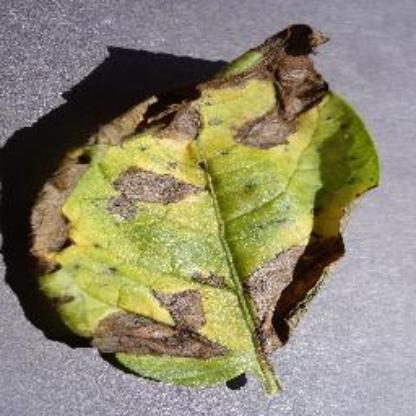Early-Blight: (18, 20, 378, 400)
